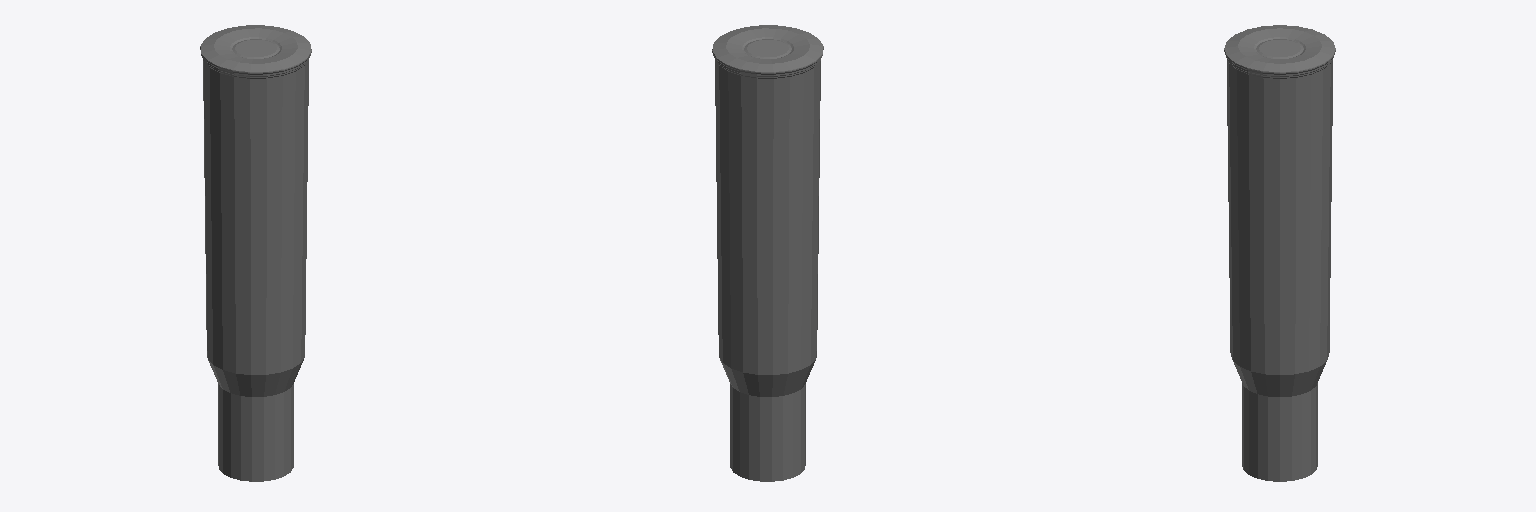
File: Bullet_Case_Rifle.obj
3 renders of one model, left to right at view 1: azimuth 30°, elevation 25°; view 2: azimuth 150°, elevation 25°; view 3: azimuth 270°, elevation 25°, orthographic.
Visible parts, largest first — view 1: sleeve; view 2: sleeve; view 3: sleeve.
Boxes of the visible parts, box(x1,y1,x2,y2) form: sleeve: box(200, 25, 311, 481); sleeve: box(712, 25, 823, 481); sleeve: box(1224, 25, 1335, 481).
Bounding box in the file's own units: 1.54 × 6.37 × 1.54.